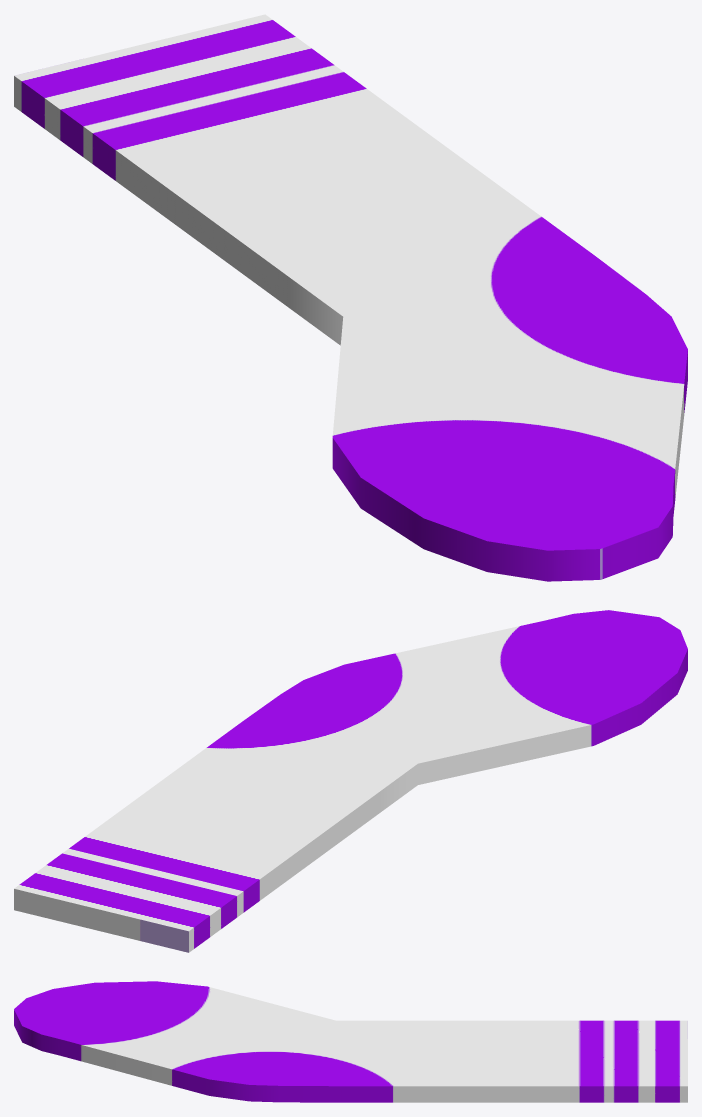
File: Sock.fbx
3 renders of one model, top to bottom at view 1: azimuth 30°, elevation 25°; view 2: azimuth 150°, elevation 25°; view 3: azimuth 270°, elevation 25°, orthographic. The views are drawn at different scales.
Parts seen in each view (by area): view 1: Sock; view 2: Sock; view 3: Sock.
Boxes of the visible parts, bbox=[...] form: Sock: bbox=[14, 14, 687, 581]; Sock: bbox=[14, 610, 687, 952]; Sock: bbox=[14, 981, 687, 1102].
Bounding box in the file's own units: 0.3419 × 0.0251 × 0.9283.
1 material, 1 textured.
